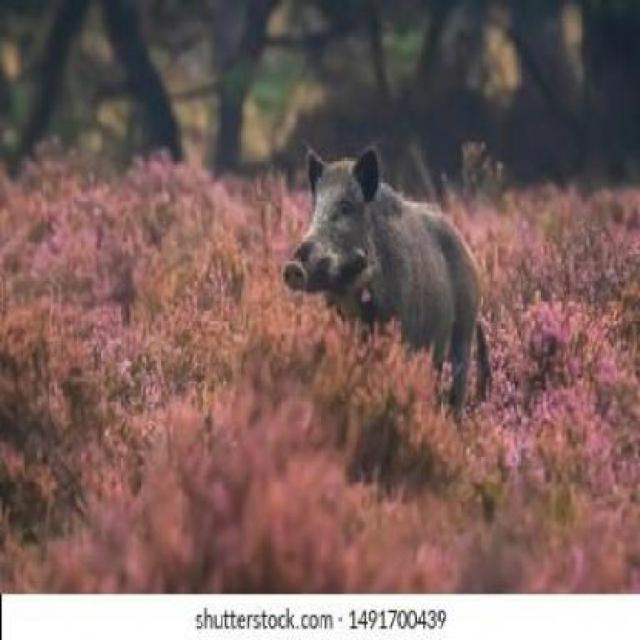wildboar: (282, 140, 498, 412)
